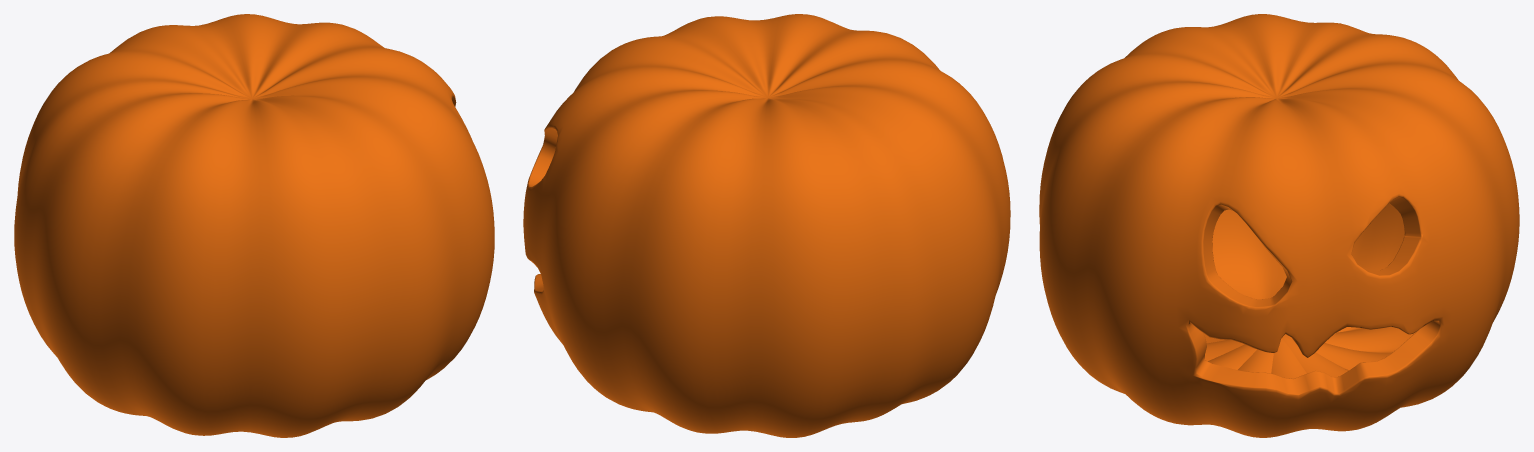
File: Pumpkin1.glb
3 views of the same model, side by side, from view 1: azimuth 30°, elevation 25°; view 2: azimuth 150°, elevation 25°; view 3: azimuth 270°, elevation 25° (orthographic).
Visible parts, largest first — view 1: Pumpkin.004; view 2: Pumpkin.004; view 3: Pumpkin.004.
Part boxes in pixels (x1,y1,x2,y2): Pumpkin.004: (14,14,494,437); Pumpkin.004: (523,14,1010,437); Pumpkin.004: (1039,14,1519,437).
Size of the model in its own units: 3.33 by 2.32 by 3.3.
